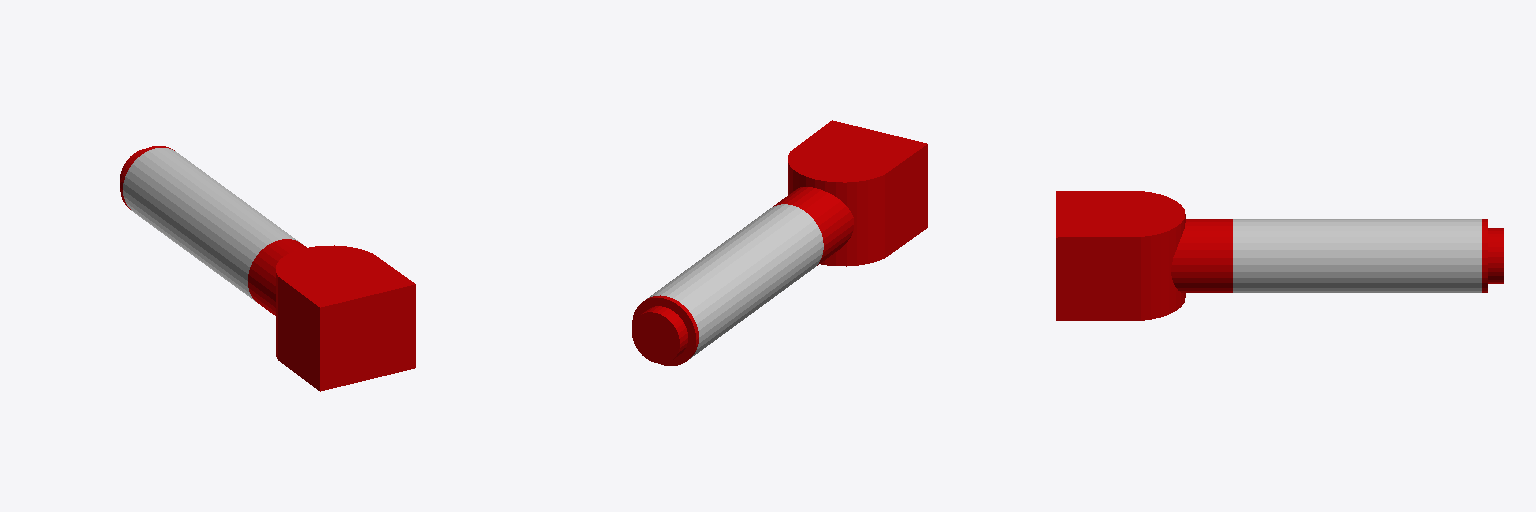
File: marker.obj
3 renders of one model, left to right at view 1: azimuth 30°, elevation 25°; view 2: azimuth 150°, elevation 25°; view 3: azimuth 270°, elevation 25°, orthographic.
Visible parts, largest first — view 1: Cap_Cylinder.001, Middle_Cylinder; view 2: Cap_Cylinder.001, Middle_Cylinder, End_Cylinder.003; view 3: Cap_Cylinder.001, Middle_Cylinder, End_Cylinder.003.
Boxes of the visible parts, box(x1,y1,x2,y2) form: Cap_Cylinder.001: box(248, 239, 415, 391); Middle_Cylinder: box(123, 148, 301, 301); Cap_Cylinder.001: box(773, 120, 927, 266); Middle_Cylinder: box(647, 204, 823, 358); End_Cylinder.003: box(632, 295, 698, 365); Cap_Cylinder.001: box(1056, 191, 1232, 320); Middle_Cylinder: box(1233, 219, 1481, 292); End_Cylinder.003: box(1482, 219, 1503, 292).
Size of the model in its own units: 1.5 by 1.25 by 6.05.